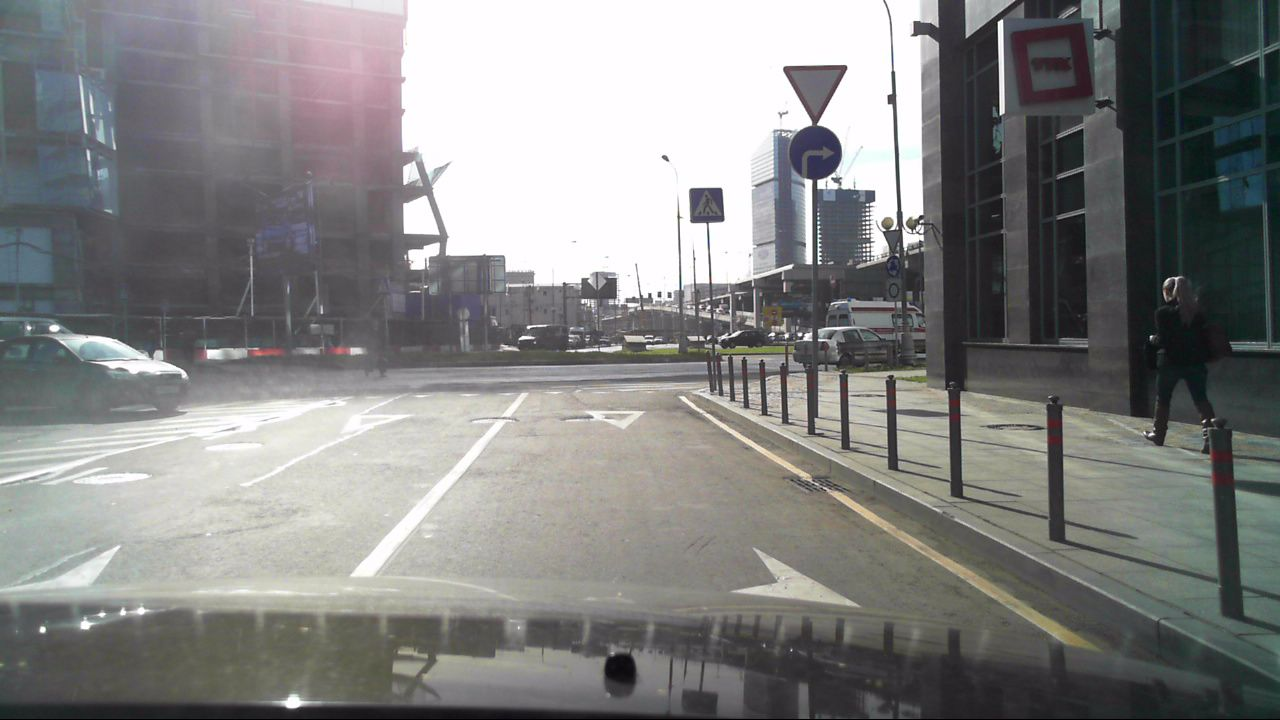Round-About: (882, 253, 902, 275)
